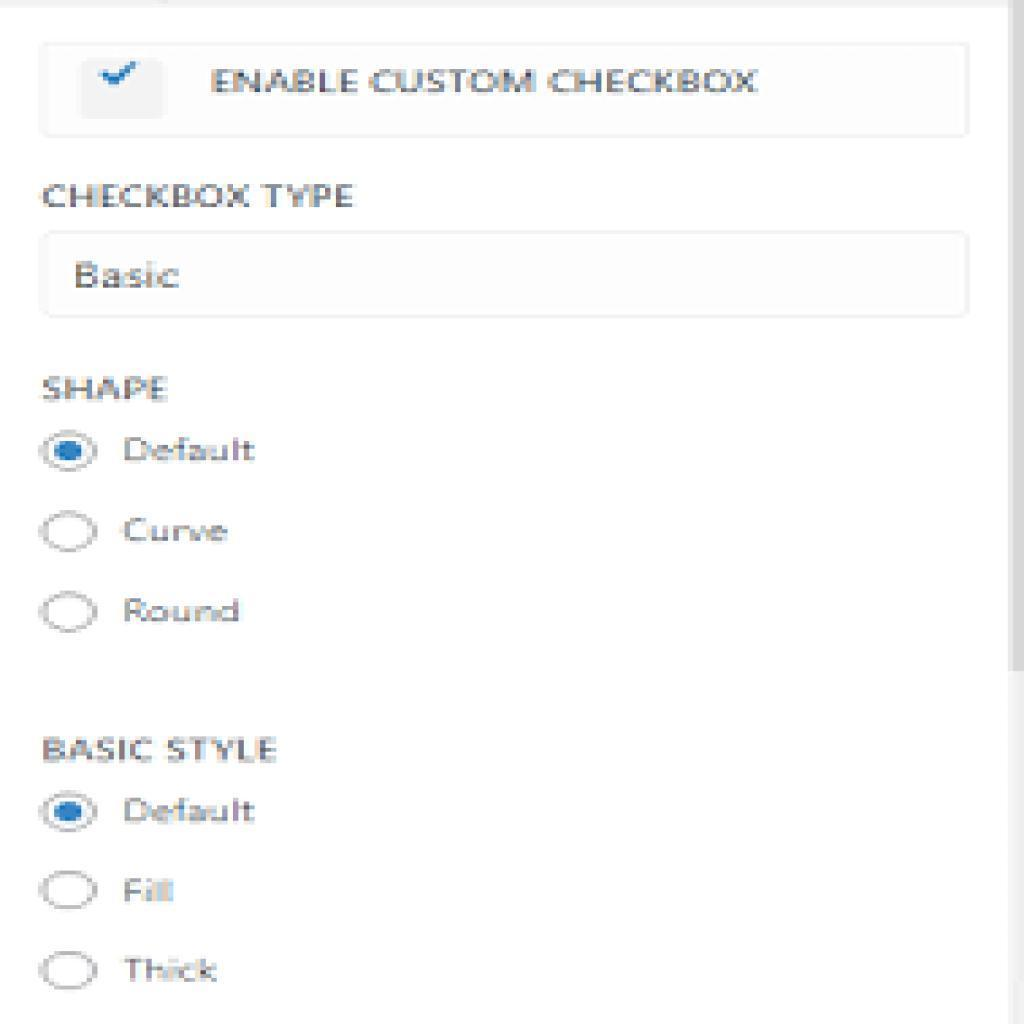checkbox: (87, 55, 159, 111)
radio: (38, 429, 103, 476), (39, 790, 101, 833), (39, 510, 101, 553), (40, 948, 99, 993), (39, 868, 99, 910), (41, 592, 101, 634)
